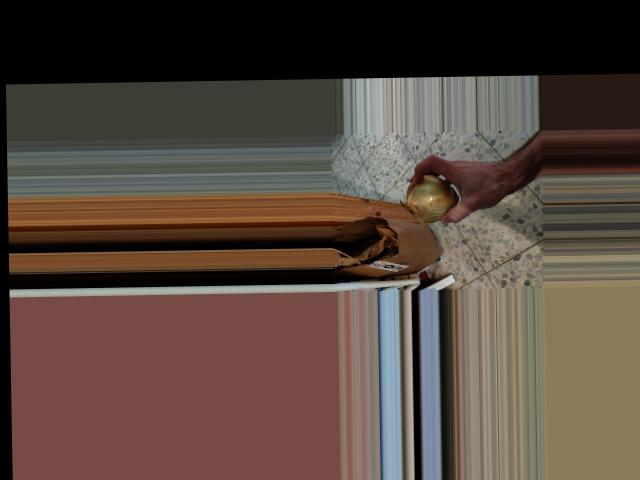onion: (399, 171, 458, 225)
